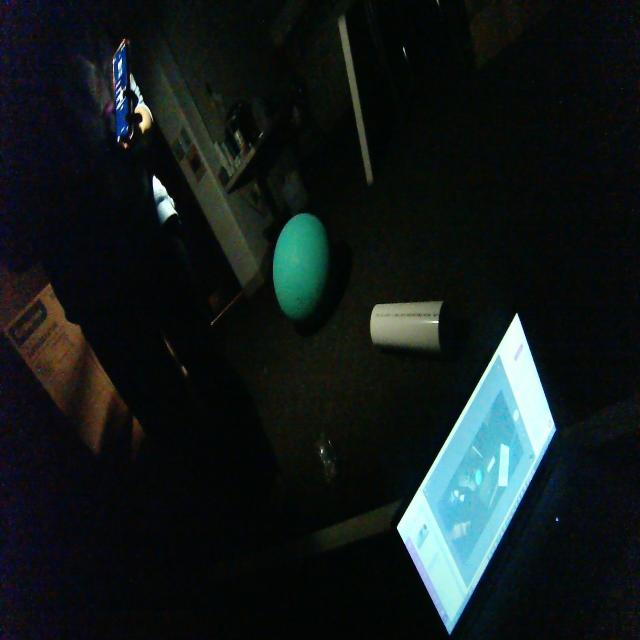algae: (270, 200, 331, 327)
coral: (367, 299, 453, 357)
